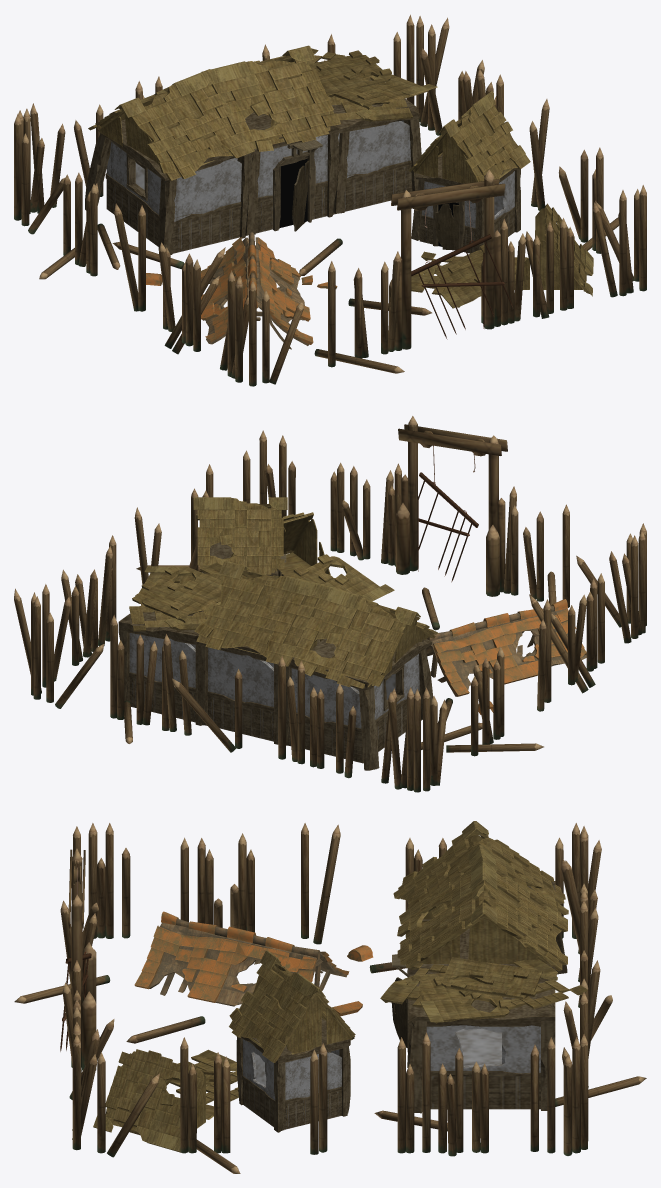
The model's file is sb_obj_outdoor010_Landmark_RuinsVillage.fbx.
3 renders of one model, top to bottom at view 1: azimuth 30°, elevation 25°; view 2: azimuth 150°, elevation 25°; view 3: azimuth 270°, elevation 25°, orthographic. The views are drawn at different scales.
Visible parts, largest first — view 1: sb_obj_outdoor010_Landmark01_RuinsVillage; view 2: sb_obj_outdoor010_Landmark01_RuinsVillage; view 3: sb_obj_outdoor010_Landmark01_RuinsVillage.
Part boxes in pixels (left/top/right/bottom): sb_obj_outdoor010_Landmark01_RuinsVillage: left=14, top=14, right=646, bottom=386; sb_obj_outdoor010_Landmark01_RuinsVillage: left=14, top=416, right=646, bottom=792; sb_obj_outdoor010_Landmark01_RuinsVillage: left=14, top=821, right=646, bottom=1173.
Bounding box in the file's own units: 2.41 × 0.7867 × 2.41.
